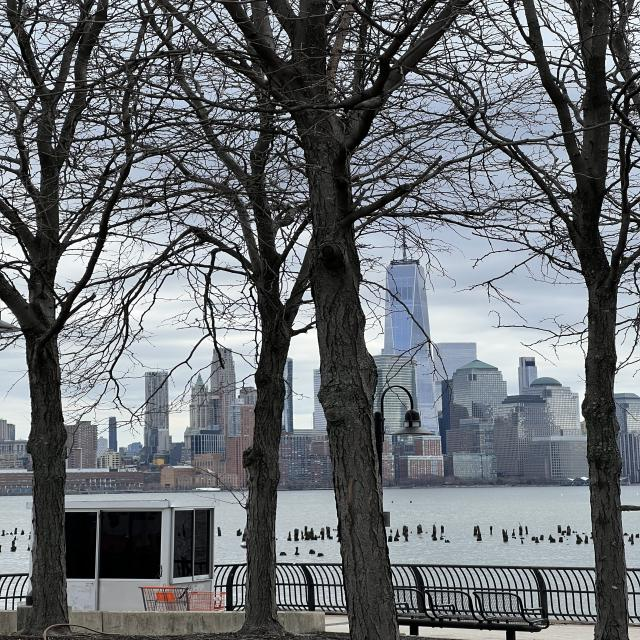WTC: (385, 218, 433, 355)
